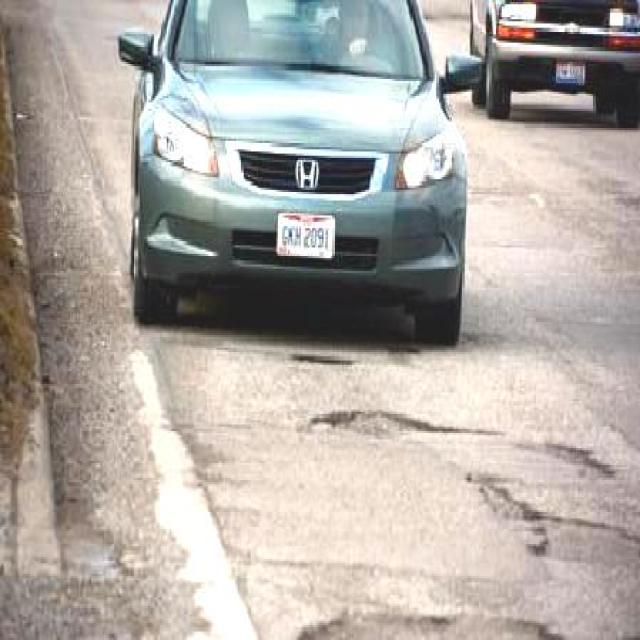pothole: (290, 608, 562, 638), (305, 405, 428, 446), (553, 430, 616, 479), (290, 346, 353, 373)
